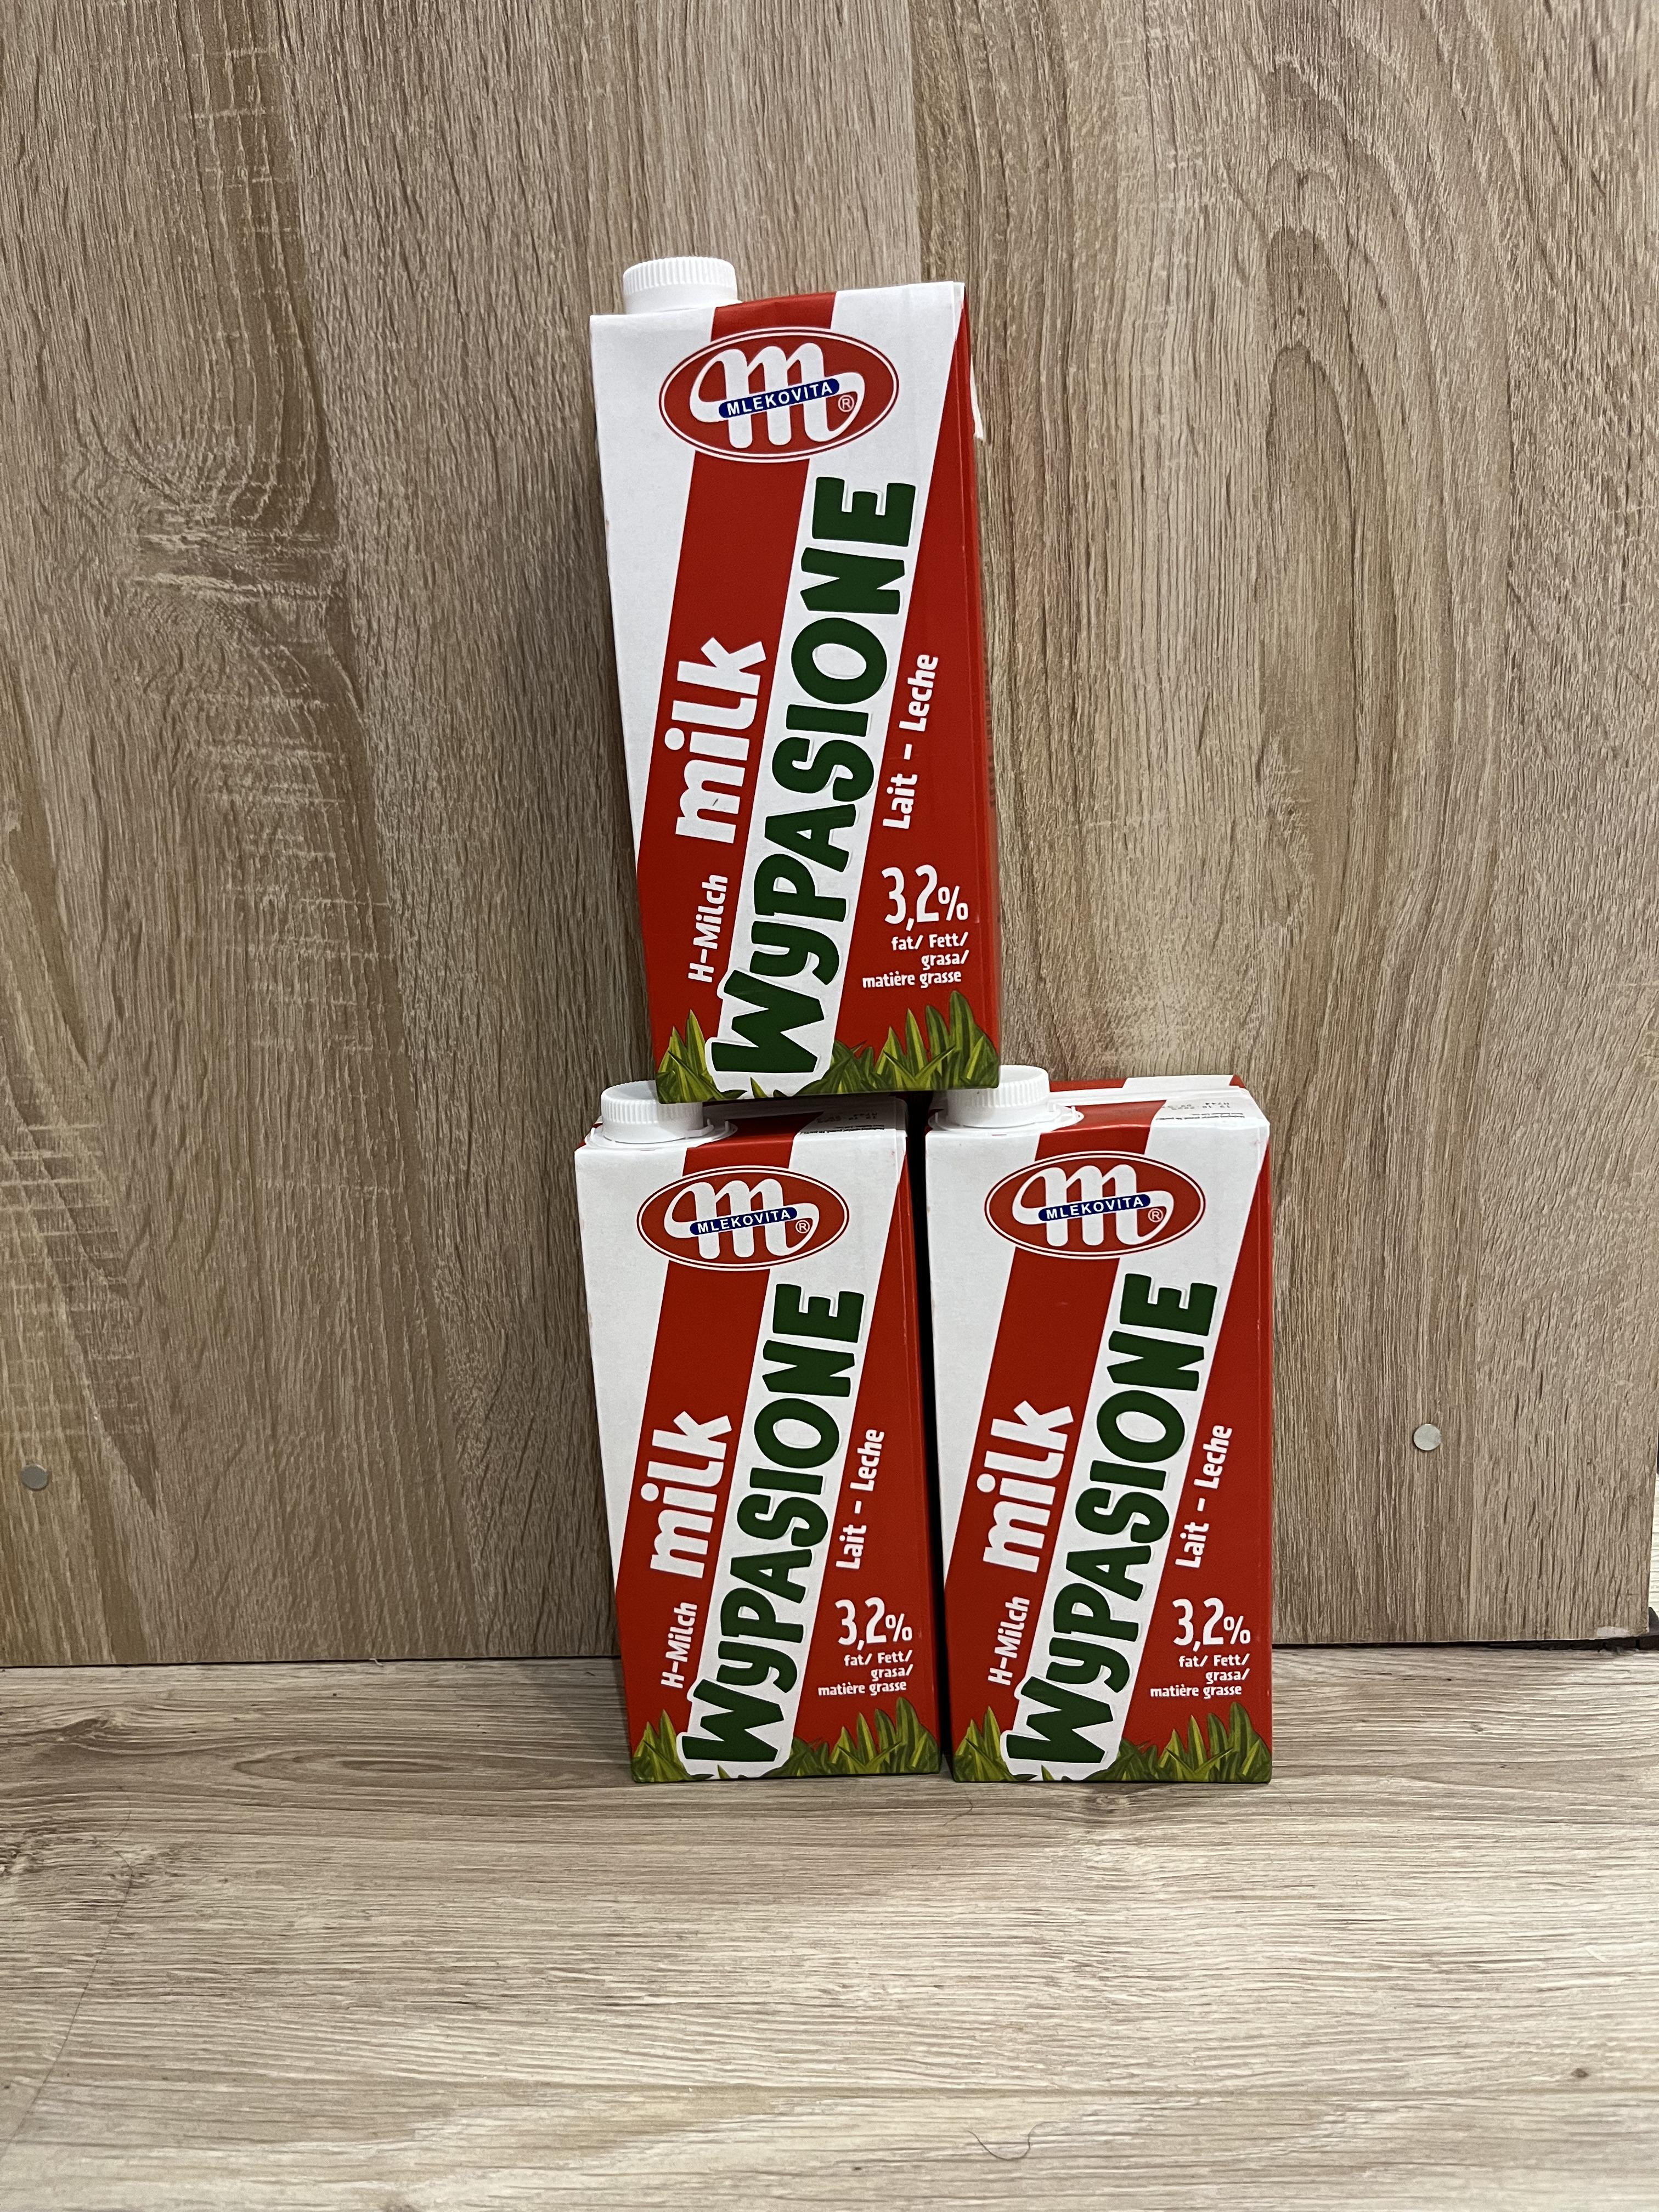Milk: (612, 307, 992, 1080), (582, 1125, 957, 1799), (946, 1097, 1290, 1808)
